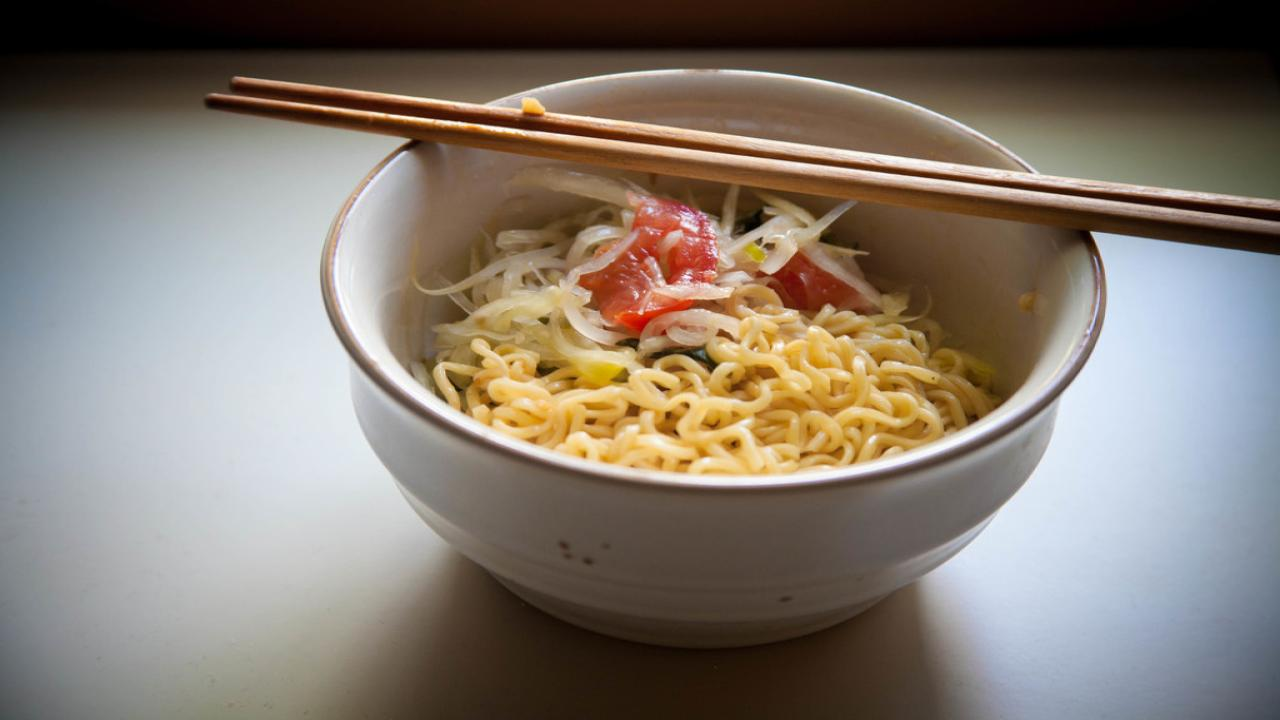chopstick: (210, 75, 1280, 255)
